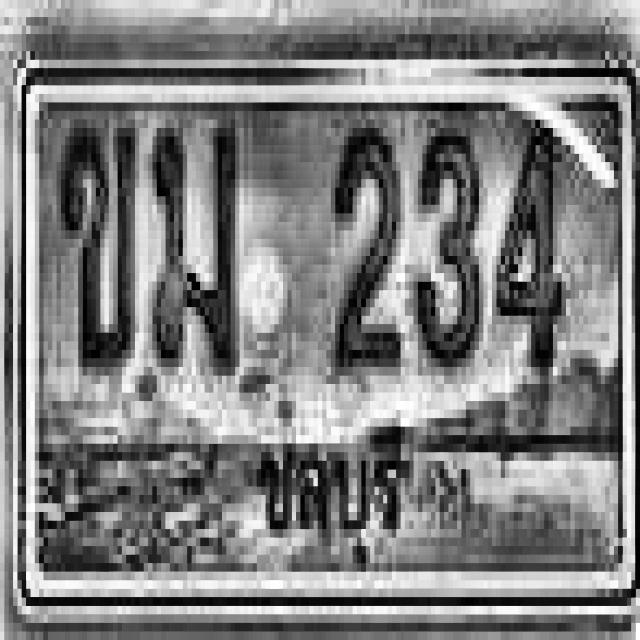license-plate: (16, 53, 640, 618)
